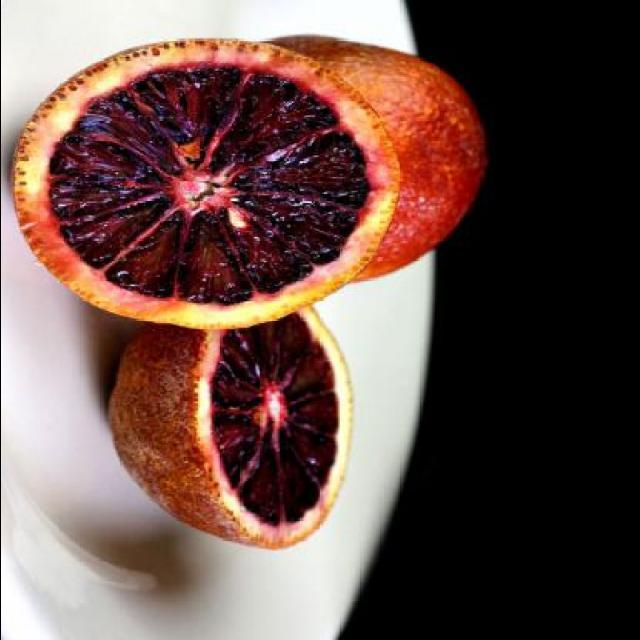Orange: (1, 37, 404, 337), (90, 303, 373, 552), (272, 37, 490, 280)
